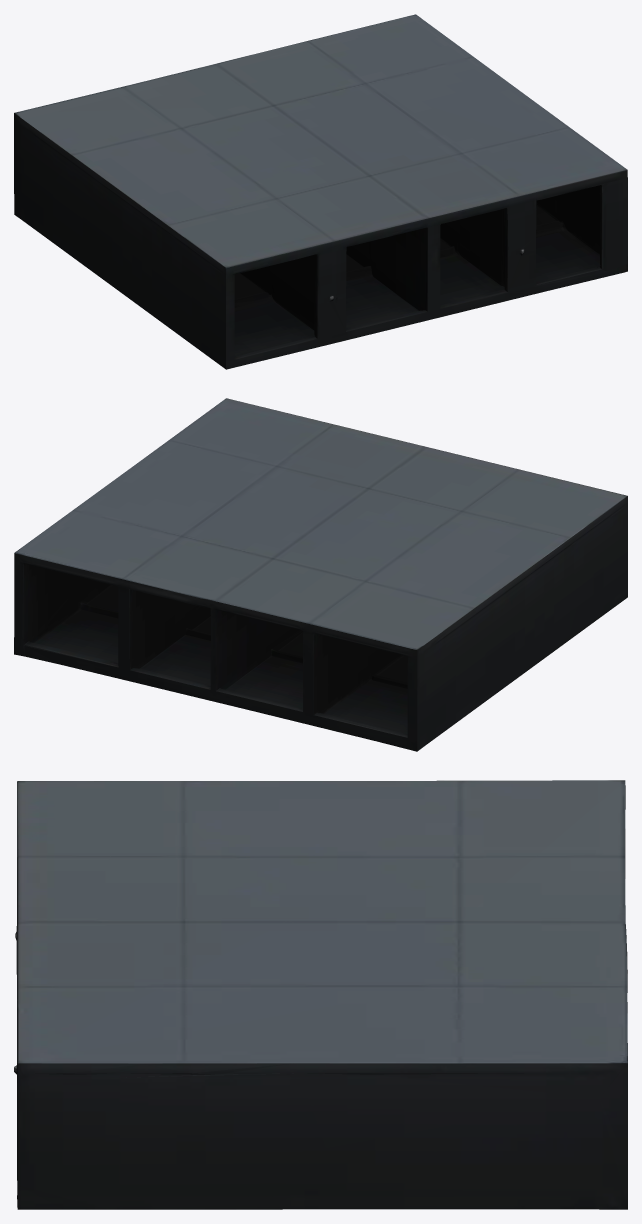
Rendered from brick-industrial-hollow.glb.
The picture shows the model from 3 angles, top to bottom: view 1: azimuth 30°, elevation 25°; view 2: azimuth 150°, elevation 25°; view 3: azimuth 270°, elevation 25°; orthographic projection. The views are drawn at different scales.
Visible parts, largest first — view 1: geometry_0; view 2: geometry_0; view 3: geometry_0.
Boxes of the visible parts, x1,y1,x2,y2 form: geometry_0: (14, 14, 627, 369); geometry_0: (14, 398, 627, 751); geometry_0: (14, 780, 627, 1209).
Size of the model in its own units: 0.9962 by 0.2428 by 0.9142.
1 material, 1 textured.
